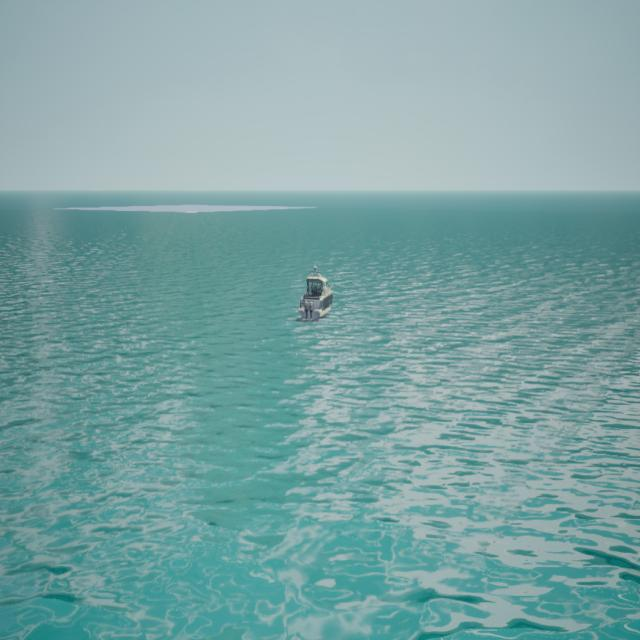ship: (298, 263, 335, 320)
